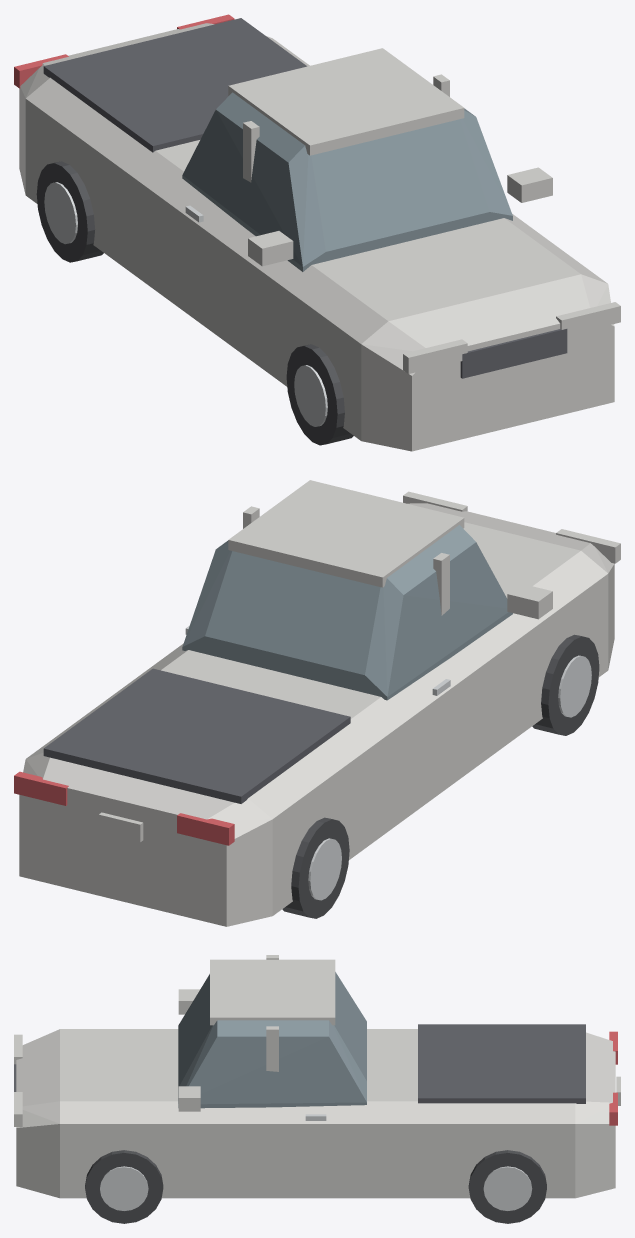
Rendered from hilux-2022.glb.
3 views of the same model, one above another, from view 1: azimuth 30°, elevation 25°; view 2: azimuth 150°, elevation 25°; view 3: azimuth 270°, elevation 25° (orthographic). The views are drawn at different scales.
Visible parts, largest first — view 1: body, cabin_glass, bed_liner, roof, wheel_-1_1_tire, wheel_-1_-1_tire, grille, wheel_-1_1_rim, wheel_-1_-1_rim, headlight_-1, headlight_1, mirror_-1 (+2 smaller); view 2: body, cabin_glass, bed_liner, roof, wheel_-1_-1_tire, wheel_-1_1_tire, wheel_-1_-1_rim, wheel_-1_1_rim, taillight_-1, mirror_-1, taillight_1, rear_plate (+2 smaller); view 3: body, cabin_glass, bed_liner, roof, wheel_1_-1_tire, wheel_1_1_tire, wheel_1_-1_rim, wheel_1_1_rim, mirror_1, pillar_1, mirror_-1.
Part boxes in pixels (left/top/right/bottom): body: left=19, top=23, right=614, bottom=451; cabin_glass: left=182, top=92, right=512, bottom=271; bed_liner: left=43, top=18, right=306, bottom=152; roof: left=228, top=48, right=464, bottom=155; wheel_-1_1_tire: left=286, top=344, right=353, bottom=445; wheel_-1_-1_tire: left=36, top=161, right=103, bottom=262; grille: left=460, top=329, right=567, bottom=378; wheel_-1_1_rim: left=294, top=365, right=327, bottom=426; wheel_-1_-1_rim: left=44, top=182, right=77, bottom=244; headlight_-1: left=403, top=339, right=467, bottom=373; headlight_1: left=556, top=302, right=620, bottom=335; mirror_-1: left=248, top=231, right=293, bottom=266; body: left=19, top=503, right=614, bottom=926; cabin_glass: left=182, top=525, right=512, bottom=700; bed_liner: left=43, top=668, right=350, bottom=803; roof: left=228, top=480, right=464, bottom=587; wheel_-1_-1_tire: left=282, top=817, right=349, bottom=918; wheel_-1_1_tire: left=532, top=634, right=599, bottom=735; wheel_-1_-1_rim: left=308, top=838, right=341, bottom=900; wheel_-1_1_rim: left=558, top=655, right=591, bottom=717; taillight_-1: left=177, top=813, right=234, bottom=845; mirror_-1: left=507, top=583, right=552, bottom=619; taillight_1: left=14, top=771, right=68, bottom=805; rear_plate: left=98, top=812, right=143, bottom=842; body: left=16, top=1029, right=615, bottom=1198; cabin_glass: left=178, top=972, right=366, bottom=1108; bed_liner: left=418, top=1024, right=585, bottom=1103; roof: left=210, top=959, right=335, bottom=1025; wheel_1_-1_tire: left=468, top=1150, right=546, bottom=1223; wheel_1_1_tire: left=85, top=1150, right=163, bottom=1223; wheel_1_-1_rim: left=483, top=1166, right=532, bottom=1210; wheel_1_1_rim: left=100, top=1166, right=148, bottom=1210; mirror_1: left=178, top=1086, right=200, bottom=1111; pillar_1: left=266, top=1026, right=278, bottom=1071; mirror_-1: left=178, top=989, right=199, bottom=1014.
Size of the model in its own units: 2.23 by 1.78 by 5.26.
